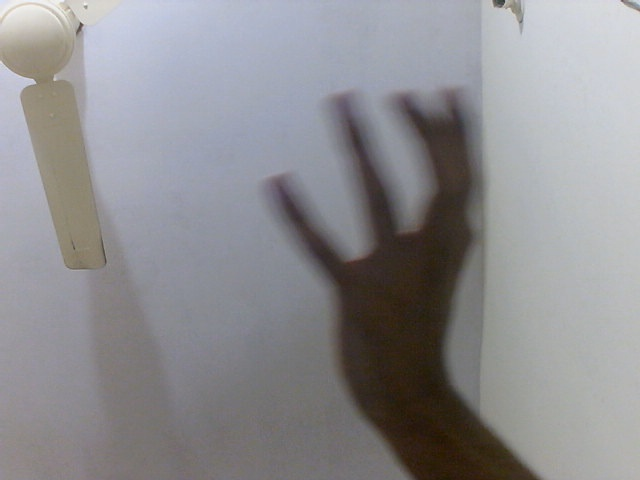hand: (256, 78, 483, 429)
